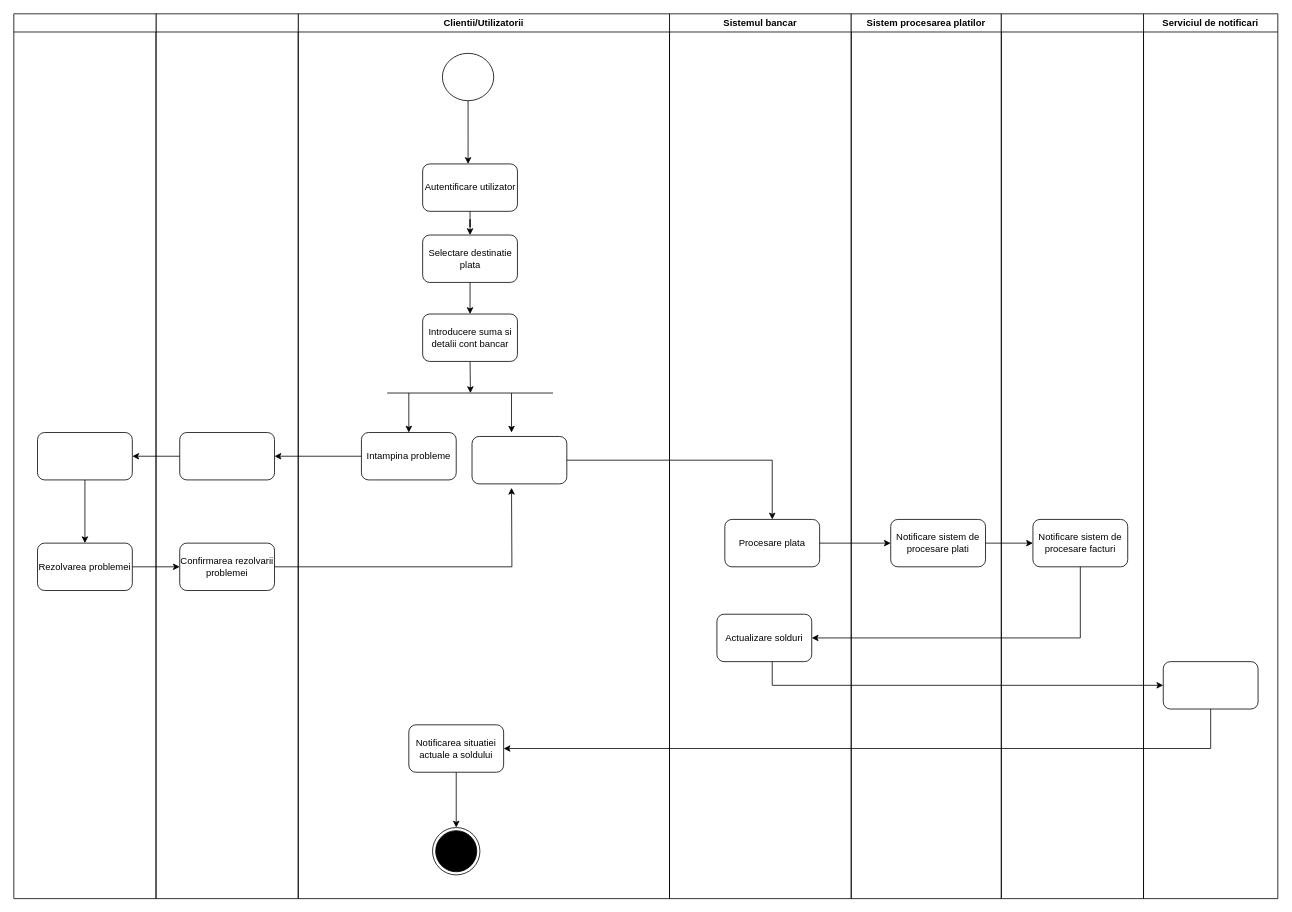
Some shapes in this 1292 by 912 pixel diagram are drawn without their labels. Each missing label, with the box of its shape:
Administrator sistem: (13, 13, 156, 899)
Confirmare plata: (471, 436, 567, 484)
Identificarea problemei: (179, 432, 275, 480)
Personal de servicii clienti: (155, 13, 298, 899)
Primirea situatiei actuale a soldului: (1162, 661, 1258, 709)
Sistem procesarea facturilor: (1001, 13, 1144, 899)
START: (442, 53, 494, 101)
Transmiterea problemei catre administrator: (37, 432, 132, 480)
